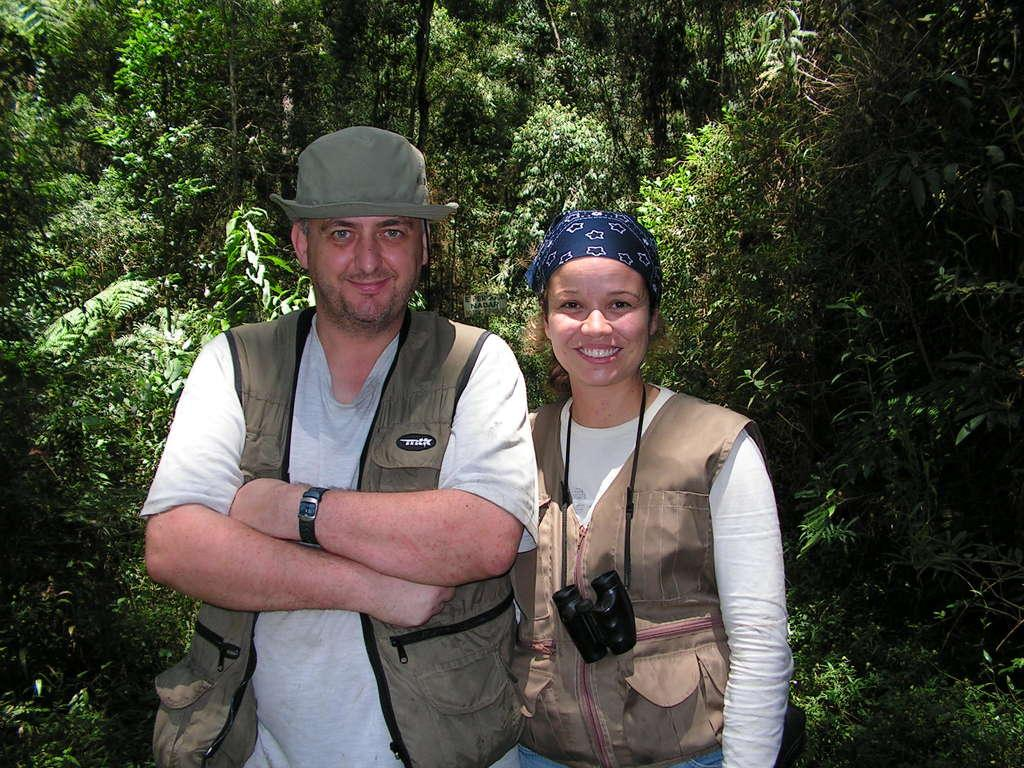Hat: (266, 123, 460, 220)
